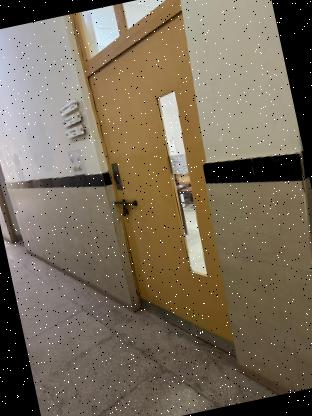door: (59, 0, 260, 388)
